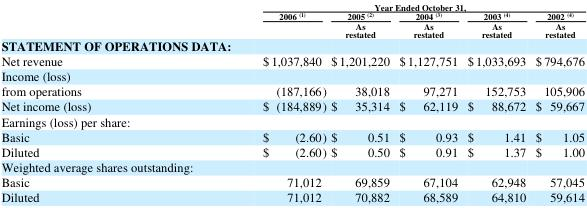table: (0, 0, 584, 204)
table column: (0, 0, 176, 204), (176, 0, 328, 204), (461, 0, 530, 204), (393, 0, 461, 204), (328, 0, 393, 204), (530, 0, 584, 204)
table column header: (0, 0, 584, 38)
table projected row header: (0, 38, 584, 53), (0, 67, 584, 82), (0, 113, 584, 128), (0, 158, 584, 173)
table row: (0, 11, 584, 38), (0, 82, 584, 98), (0, 188, 584, 204), (0, 38, 584, 53), (0, 67, 584, 82), (0, 98, 584, 113), (0, 113, 584, 128), (0, 128, 584, 143), (0, 143, 584, 158), (0, 158, 584, 173), (0, 173, 584, 188), (0, 53, 584, 67), (0, 0, 584, 11)
table spanning cell: (176, 0, 584, 11)
